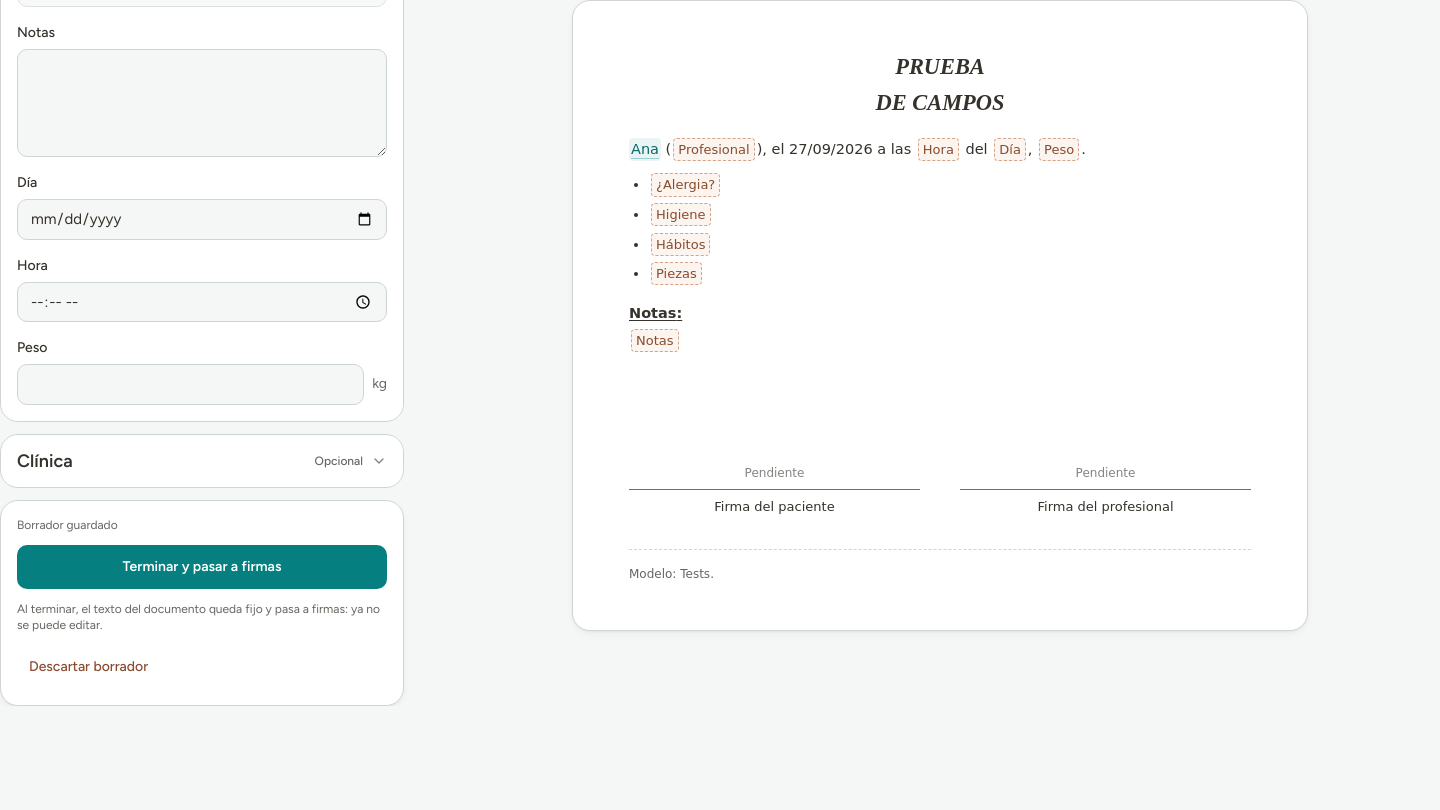
it: EditorDeDocumento: los rótulos de terminar › una historia clínica sigue diciendo «Terminar y pasar a firmas», con su ayuda y su diálogo
This screenshot has width=1440, height=810.
(page scrolled)
Check: the text "Al terminar, el texto del documento queda fijo y pasa a firmas: ya no se puede editar." is shown, box top-left (17, 602), bottom-right (380, 632)
Click the button "Terminar y pasar a firmas": click(202, 566) top-left (17, 544), bottom-right (387, 588)
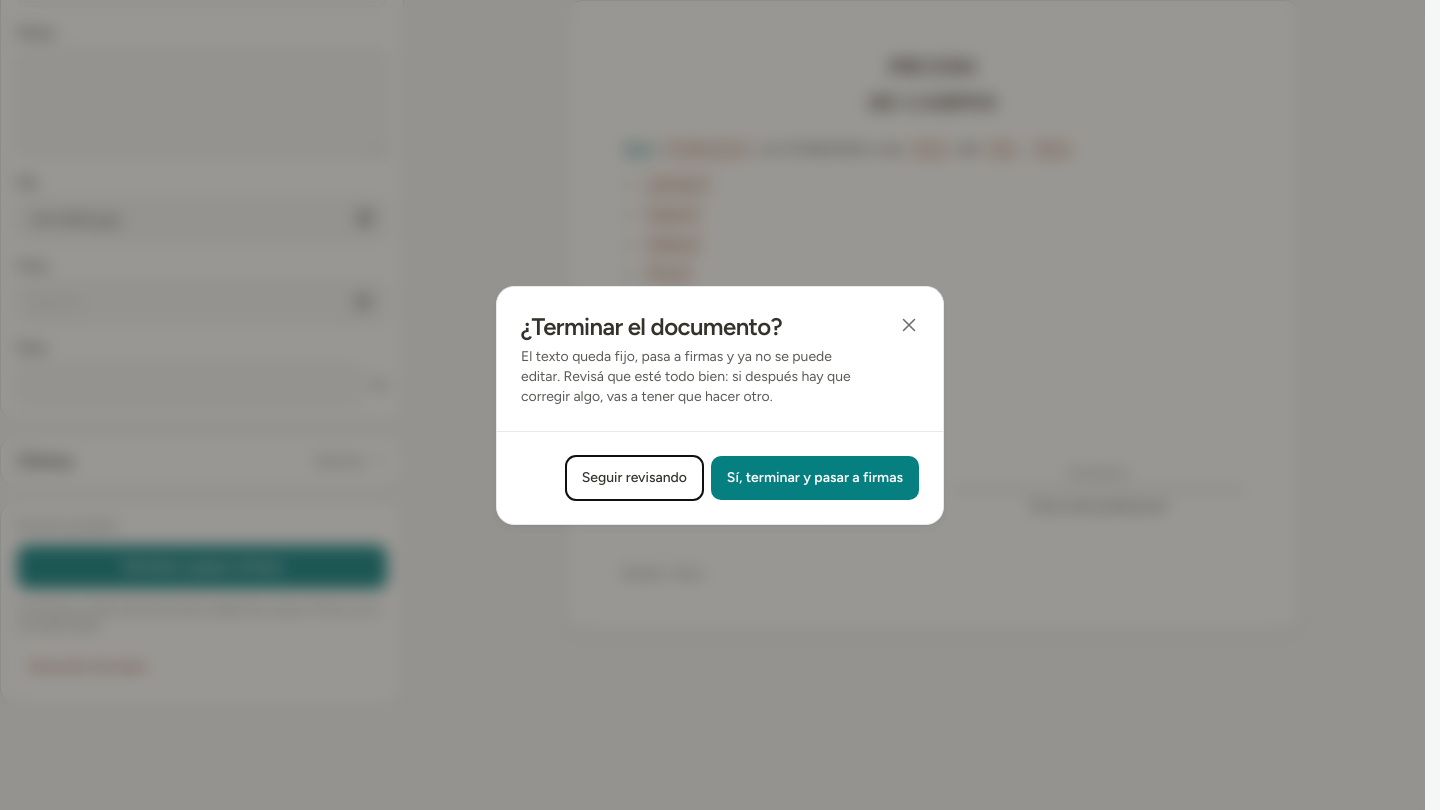
Check: the dialog "¿Terminar el documento?" does not show "imprimir", box top-left (496, 286), bottom-right (944, 524)
Check: the dialog "¿Terminar el documento?" shows "El texto queda fijo, pasa a firmas y ya no se puede editar.", box top-left (521, 348), bottom-right (851, 404)
